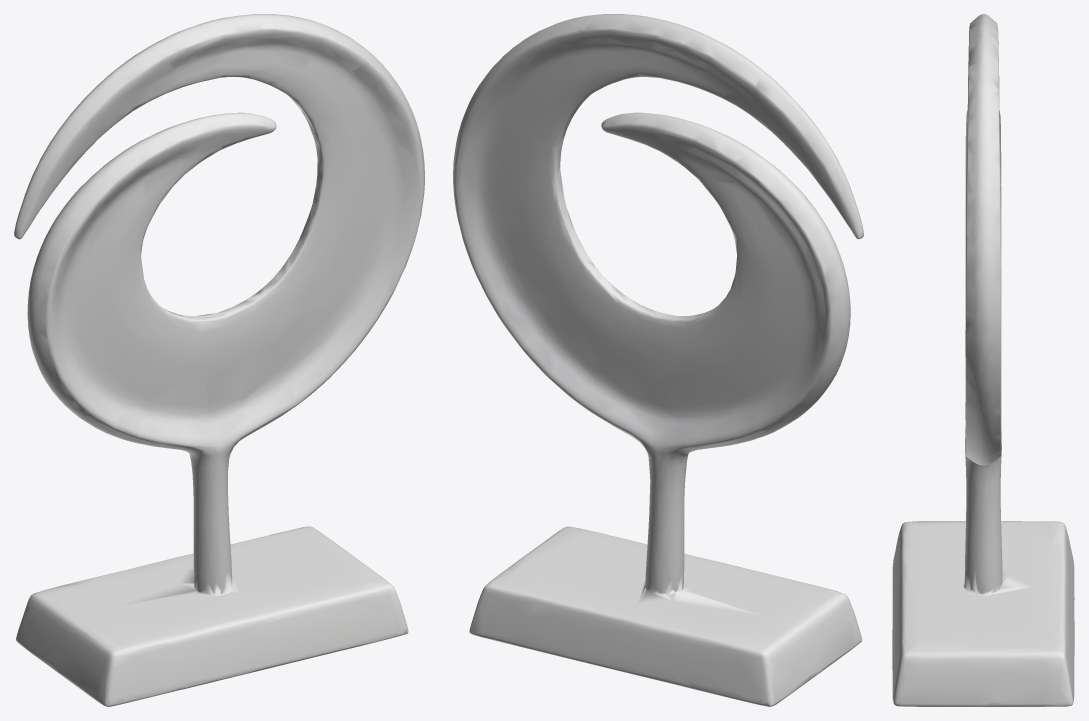
The model's file is skulptur-01.glb.
3 renders of one model, left to right at view 1: azimuth 30°, elevation 25°; view 2: azimuth 150°, elevation 25°; view 3: azimuth 270°, elevation 25°, orthographic. The views are drawn at different scales.
Size of the model in its own units: 1.32 by 1.9 by 0.5219.
Materials: 1 (1 with a texture image).
